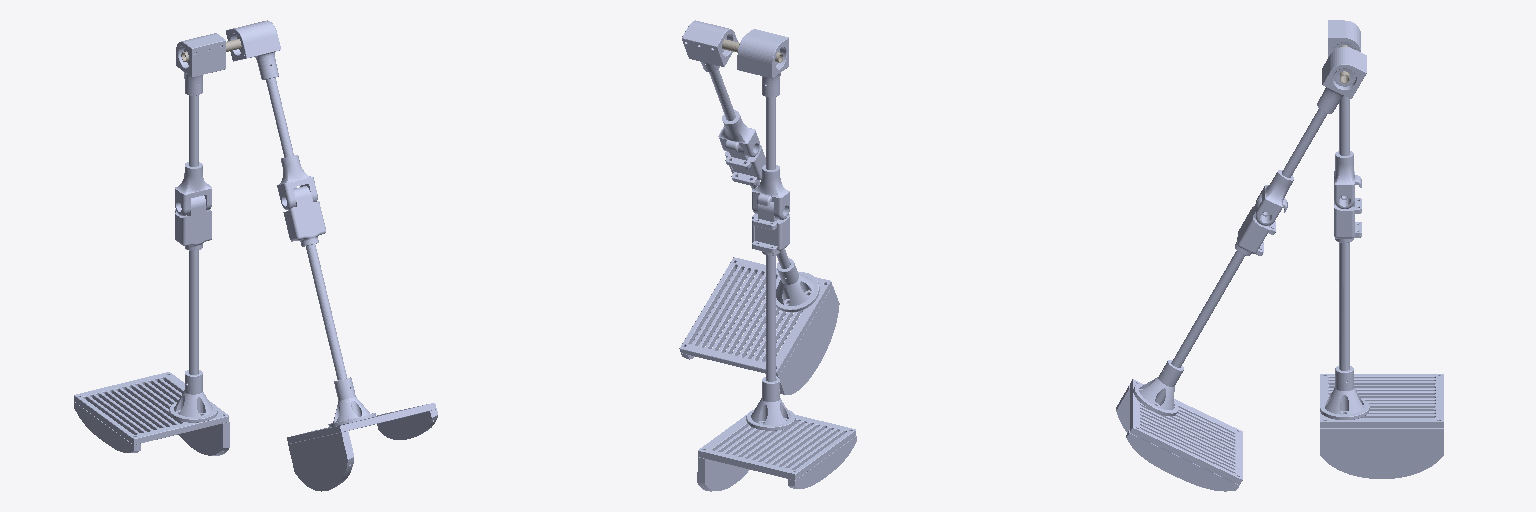
robot.urdf — walker_design_3:
<?xml version="1.0" encoding="utf-8"?>
<!-- This URDF was automatically created by SolidWorks to URDF Exporter! Originally created by [author] ([email redacted]) 
     Commit Version: 1.6.0-4-g7f85cfe  Build Version: 1.6.7995.38578
     For more information, please see http://wiki.ros.org/sw_urdf_exporter -->
<robot
  name="walker_design_3">
  <link
    name="left_foot_link">
    <inertial>
      <origin
        xyz="-0.033016 -0.020113 0.1804"
        rpy="0 0 0" />
      <mass
        value="0.26156" />
      <inertia
        ixx="0.00027102"
        ixy="3.9882E-08"
        ixz="-9.656E-07"
        iyy="0.00019908"
        iyz="5.8183E-07"
        izz="0.00021774" />
    </inertial>
    <visual>
      <origin
        xyz="0 0 0"
        rpy="0 0 0" />
      <geometry>
        <mesh
          filename="package://walker_design_3/meshes/left_foot_link.STL" />
      </geometry>
      <material
        name="">
        <color
          rgba="0.79216 0.81961 0.93333 1" />
      </material>
    </visual>
    <collision>
      <origin
        xyz="0 0 0"
        rpy="0 0 0" />
      <geometry>
        <mesh
          filename="package://walker_design_3/meshes/left_foot_link.STL" />
      </geometry>
    </collision>
  </link>
  <link
    name="left_hip_link">
    <inertial>
      <origin
        xyz="0.03 1.3201E-13 -3.5527E-15"
        rpy="0 0 0" />
      <mass
        value="0.022224" />
      <inertia
        ixx="4.5558E-07"
        ixy="1.5657E-20"
        ixz="-1.0489E-19"
        iyy="1.8747E-05"
        iyz="4.7646E-21"
        izz="1.8747E-05" />
    </inertial>
    <visual>
      <origin
        xyz="0 0 0"
        rpy="0 0 0" />
      <geometry>
        <mesh
          filename="package://walker_design_3/meshes/left_hip_link.STL" />
      </geometry>
      <material
        name="">
        <color
          rgba="0.77647 0.75686 0.73725 1" />
      </material>
    </visual>
    <collision>
      <origin
        xyz="0 0 0"
        rpy="0 0 0" />
      <geometry>
        <mesh
          filename="package://walker_design_3/meshes/left_hip_link.STL" />
      </geometry>
    </collision>
  </link>
  <joint
    name="left_hip_joint"
    type="revolute">
    <origin
      xyz="-0.018882 -0.035898 0.45353"
      rpy="0 0 0" />
    <parent
      link="left_foot_link" />
    <child
      link="left_hip_link" />
    <axis
      xyz="1 0 0" />
    <limit
      lower="0"
      upper="0"
      effort="0"
      velocity="0" />
  </joint>
  <link
    name="right_foot_link">
    <inertial>
      <origin
        xyz="0.014142 0.015991 -0.27313"
        rpy="0 0 0" />
      <mass
        value="0.26156" />
      <inertia
        ixx="0.00027102"
        ixy="3.9326E-08"
        ixz="9.6003E-07"
        iyy="0.00019908"
        iyz="-3.1864E-07"
        izz="0.00021774" />
    </inertial>
    <visual>
      <origin
        xyz="0 0 0"
        rpy="0 0 0" />
      <geometry>
        <mesh
          filename="package://walker_design_3/meshes/right_foot_link.STL" />
      </geometry>
      <material
        name="">
        <color
          rgba="0.79216 0.81961 0.93333 1" />
      </material>
    </visual>
    <collision>
      <origin
        xyz="0 0 0"
        rpy="0 0 0" />
      <geometry>
        <mesh
          filename="package://walker_design_3/meshes/right_foot_link.STL" />
      </geometry>
    </collision>
  </link>
  <joint
    name="right_hip_joint"
    type="revolute">
    <origin
      xyz="0.06 0 0"
      rpy="-0.48379 0 0" />
    <parent
      link="left_hip_link" />
    <child
      link="right_foot_link" />
    <axis
      xyz="1 0 0" />
    <limit
      lower="0"
      upper="0"
      effort="0"
      velocity="0" />
  </joint>
</robot>

--- Facts derived from the render (not from the file) ---
The picture shows the robot from 3 angles, left to right: view 1: azimuth 30°, elevation 25°; view 2: azimuth 150°, elevation 25°; view 3: azimuth 270°, elevation 25°; orthographic projection.
Model walker_design_3 with 3 links and 2 joints (2 revolute), rooted at left_foot_link, posed all joints at 0.
Visible links, largest first — view 1: left_foot_link, right_foot_link; view 2: right_foot_link, left_foot_link; view 3: left_foot_link, right_foot_link.
Link boxes in pixels (<box>): left_foot_link: <box>74,33,229,455</box>; right_foot_link: <box>226,20,437,491</box>; right_foot_link: <box>679,20,839,394</box>; left_foot_link: <box>697,29,856,491</box>; left_foot_link: <box>1320,20,1443,478</box>; right_foot_link: <box>1116,47,1366,491</box>.
Size in the robot's own frame: 0.2427 by 0.3164 by 0.4695 metres.
Meshes: 3 distinct files referenced, 3 mesh visuals loaded (3 binary STL).
